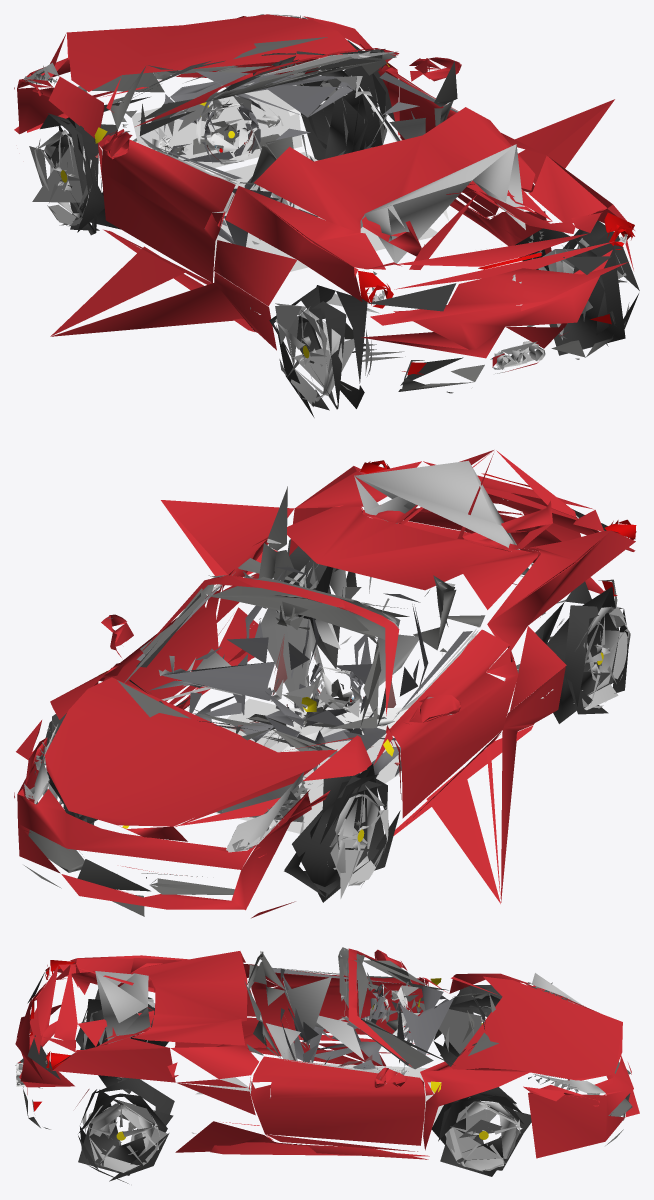
File: Car_LOD4.glb
The picture shows the model from 3 angles, top to bottom: view 1: azimuth 30°, elevation 25°; view 2: azimuth 150°, elevation 25°; view 3: azimuth 270°, elevation 25°; orthographic projection. The views are drawn at different scales.
Visible parts, largest first — view 1: body, interior_light, interior_dark, carpet, leather, tire.003, tire, tire.001, tire.002, wheel.001, grills, wheel.002 (+10 smaller); view 2: body, interior_light, interior_dark, leather, tire.002, tire.001, carpet, carbon_fibre_trim, wheel.002, wheel.001, glass, tire (+4 smaller); view 3: body, interior_light, interior_dark, leather, tire, tire.003, wheel.003, wheel, carpet, tire.002, carbon_fibre_trim, tire.001 (+7 smaller).
Part boxes in pixels (x1,y1,x2,y2): body: (14, 14, 634, 371); interior_light: (40, 37, 615, 393); interior_dark: (43, 51, 537, 369); carpet: (131, 75, 449, 271); leather: (155, 71, 457, 246); tire.003: (300, 40, 394, 160); tire: (515, 220, 639, 355); tire.001: (269, 285, 367, 417); tire.002: (40, 113, 120, 235); wheel.001: (275, 303, 372, 406); grills: (367, 256, 611, 385); wheel.002: (29, 130, 91, 224); body: (14, 450, 635, 918); interior_light: (24, 486, 617, 916); interior_dark: (107, 460, 543, 851); leather: (136, 567, 472, 778); tire.002: (284, 764, 400, 902); tire.001: (535, 581, 628, 723); carpet: (161, 686, 401, 833); carbon_fibre_trim: (158, 649, 408, 751); wheel.002: (299, 782, 388, 886); wheel.001: (557, 599, 628, 710); glass: (25, 724, 304, 852); tire: (276, 539, 356, 668); body: (15, 948, 639, 1159); interior_light: (15, 947, 632, 1145); interior_dark: (23, 948, 399, 1132); leather: (272, 968, 453, 1071); tire: (78, 1078, 174, 1183); tire.003: (431, 1087, 531, 1176); wheel.003: (445, 1096, 520, 1170); wheel: (82, 1103, 167, 1172); carpet: (313, 1002, 481, 1129); tire.002: (433, 984, 502, 1066); carbon_fibre_trim: (315, 985, 420, 1075); tire.001: (75, 989, 168, 1093).
Size of the model in its own units: 2.88 by 1.65 by 4.58.
